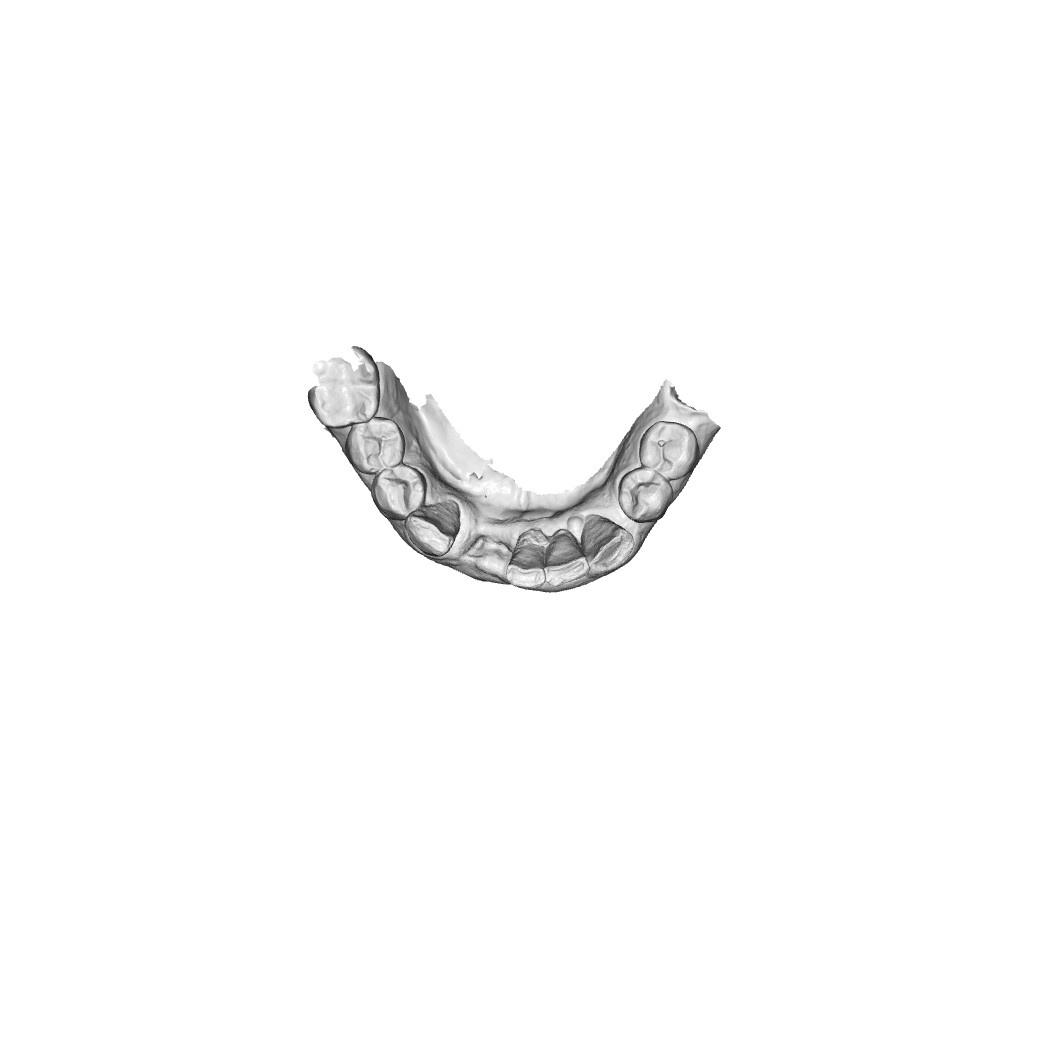canine: (579, 512, 637, 577), (406, 504, 456, 559)
incisor: (503, 523, 551, 591), (543, 532, 593, 592)
molar: (304, 347, 382, 424)
premolar: (636, 420, 700, 480), (342, 419, 403, 475), (620, 466, 672, 524), (370, 466, 424, 520)
